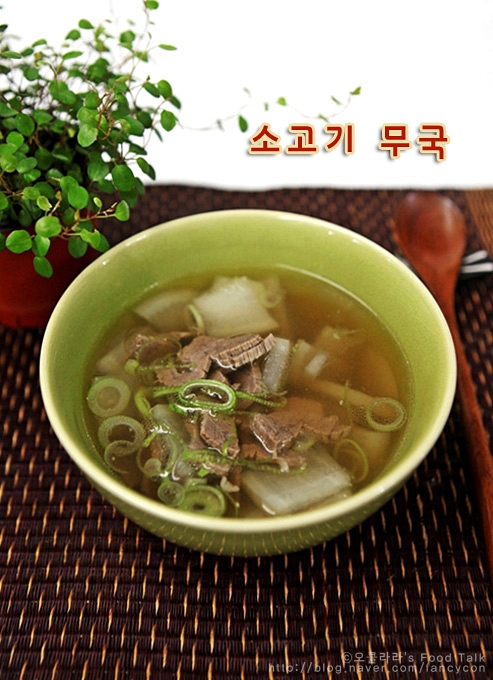mugug: (77, 264, 413, 523)
